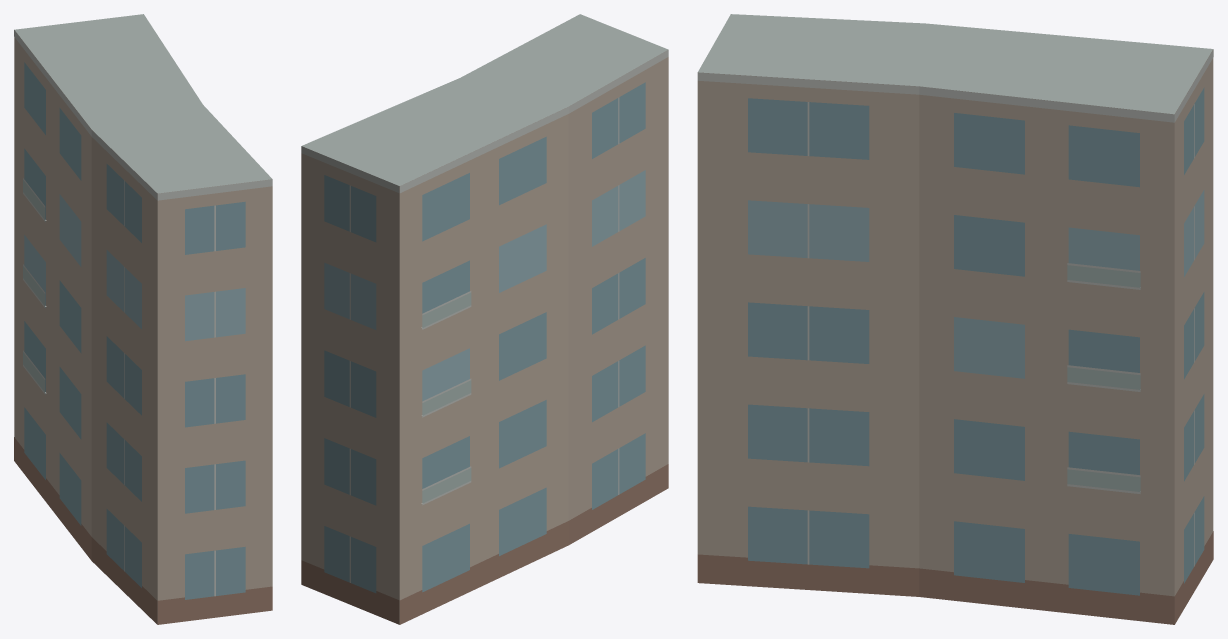
The model's file is survey-upis-32475606.glb.
3 views of the same model, side by side, from view 1: azimuth 30°, elevation 25°; view 2: azimuth 150°, elevation 25°; view 3: azimuth 270°, elevation 25° (orthographic). The views are drawn at different scales.
Parts seen in each view (by area): view 1: survey-upis-32475606.tmp; view 2: survey-upis-32475606.tmp; view 3: survey-upis-32475606.tmp.
Part boxes in pixels (x1,y1,x2,y2): survey-upis-32475606.tmp: [14, 14, 272, 624]; survey-upis-32475606.tmp: [301, 14, 668, 624]; survey-upis-32475606.tmp: [697, 14, 1213, 624].
Bounding box in the file's own units: 6.29 × 14.9 × 13.65.
